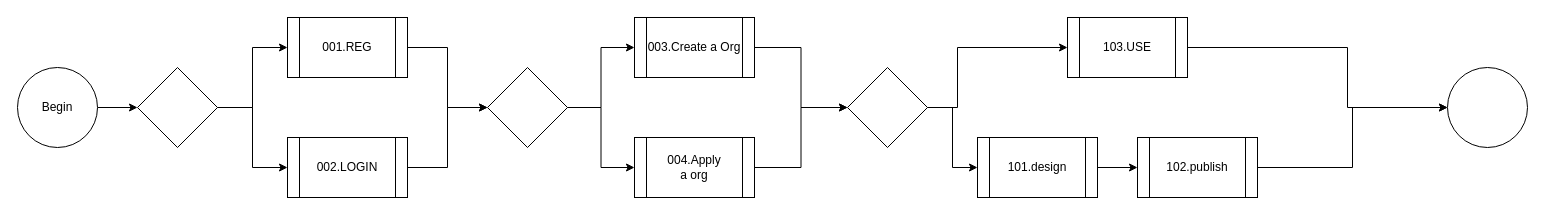
This 1545x215 diagram has some shape labels left out. The box of each missing label's shape, as (x1, y1, x2, y2) in pixels:
Create/Join Orgnaztion: (486, 66, 568, 148)
design /use APP: (846, 66, 928, 148)
end: (1446, 66, 1528, 148)
REG/LOGIN: (136, 66, 218, 148)
